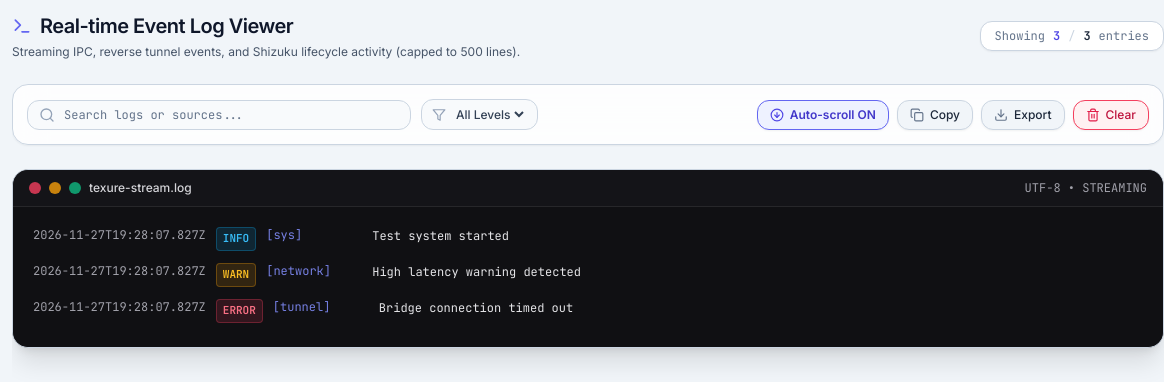
Test case: LogViewer Component › filters log stream by severity level
This screenshot has width=1164, height=382.
Expected: the text "Test system started" is shown, [372,228,509,244]
# Filter to ERROR only
Select "ERROR" in the dropdown with test id "select-log-level" at (490, 114), box [452,106,527,123]
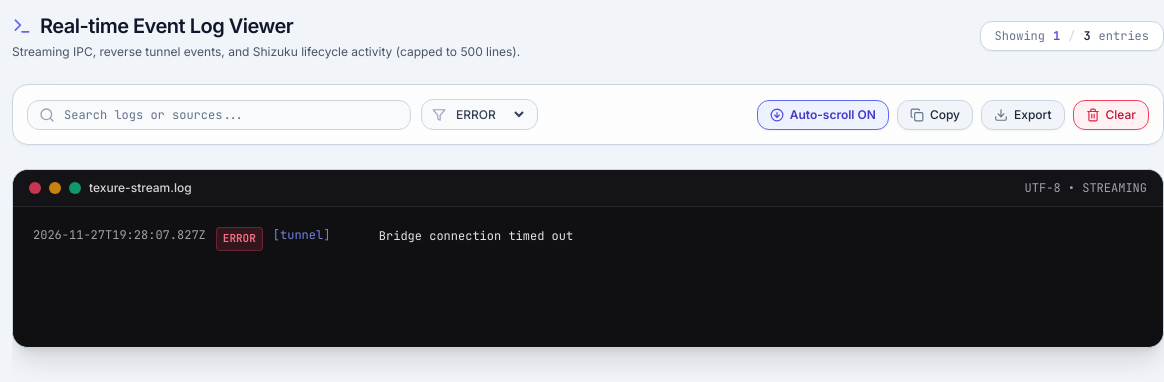
Expected: the text "Bridge connection timed out" is shown, [379,228,573,244]
Now the text "Test system started" is gone
Now the text "High latency warning detected" is gone
# Filter to WARN only
Select "WARN" in the dropdown with test id "select-log-level" at (490, 114), box [452,106,527,123]
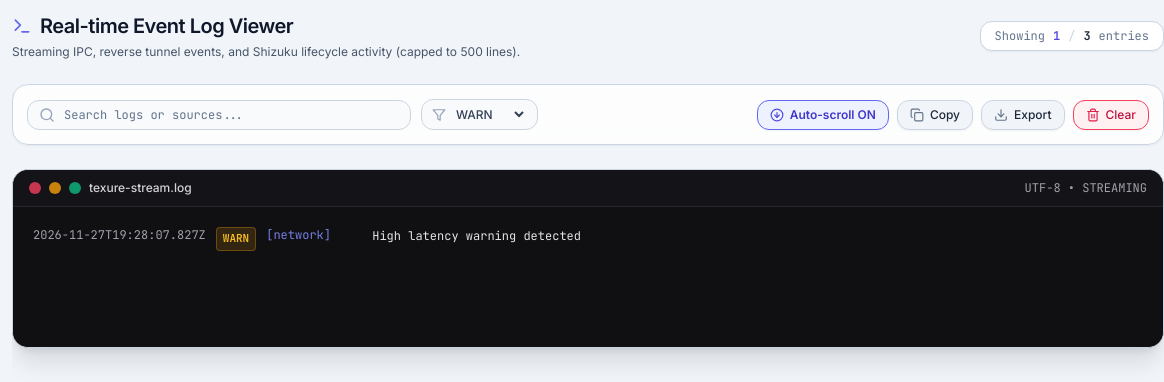
Now the text "High latency warning detected" is shown, box [372,228,581,244]
Now the text "Bridge connection timed out" is gone
# Filter back to ALL
Select "All Levels" in the dropdown with test id "select-log-level" at (490, 114), box [452,106,527,123]
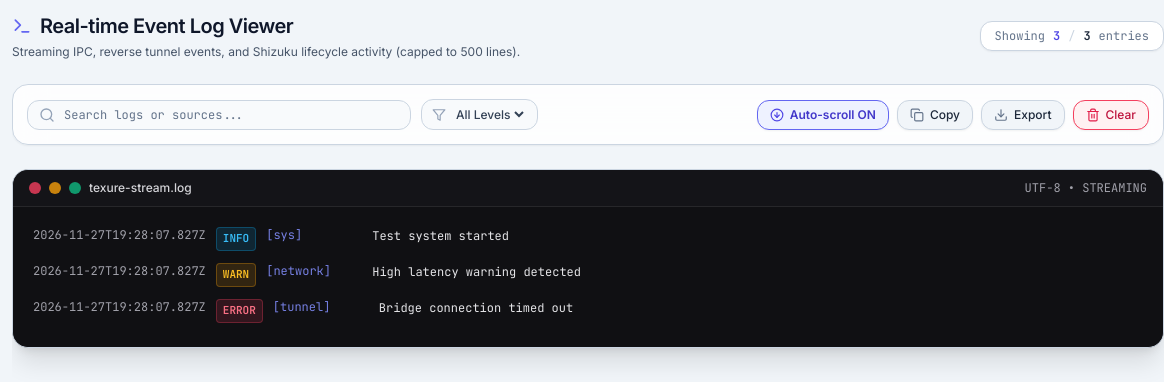
Now the text "High latency warning detected" is shown, box [372,264,581,280]
Now the text "Test system started" is shown, box [372,228,509,244]
Now the text "Bridge connection timed out" is shown, box [379,300,573,316]
